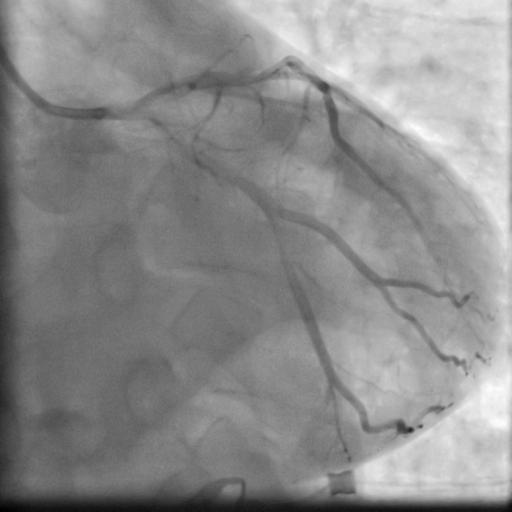Stenosis: (269, 216, 292, 270)
